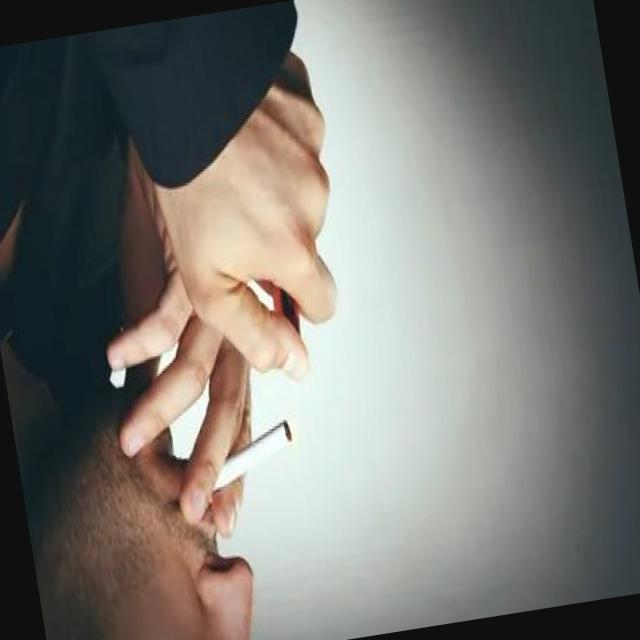smoke: (183, 404, 314, 514)
